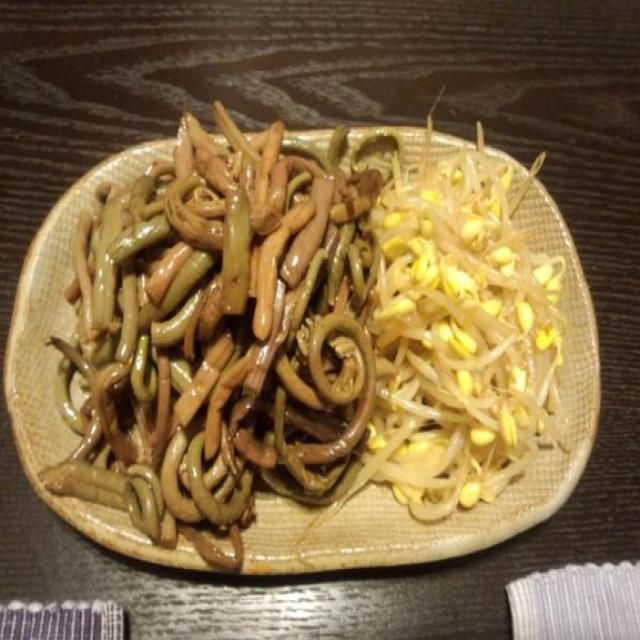蛋糕甜品: (27, 10, 561, 640)
